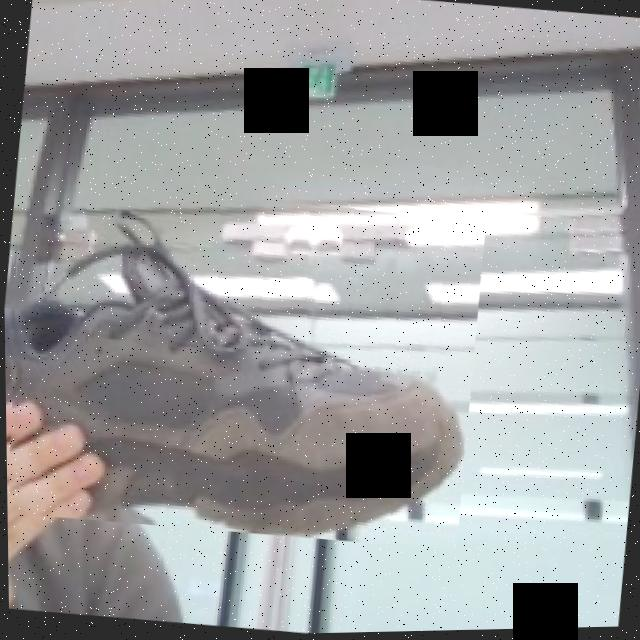shoe: (2, 165, 490, 559)
